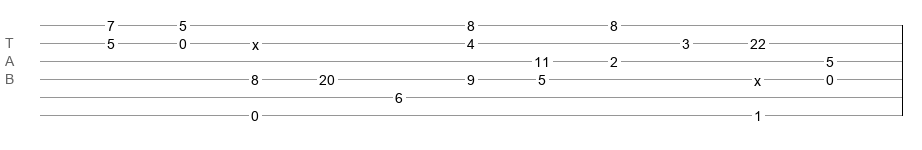0: (179, 36, 187, 46), (251, 108, 259, 118), (826, 72, 834, 82)
1: (754, 108, 762, 118)
11: (534, 54, 550, 64)
2: (610, 54, 618, 64)
20: (319, 72, 335, 82)
22: (750, 36, 766, 46)
3: (682, 36, 690, 46)
4: (467, 36, 475, 46)
5: (107, 36, 115, 46), (179, 18, 187, 28), (538, 72, 546, 82), (826, 54, 834, 64)
6: (395, 90, 403, 100)
7: (107, 18, 115, 28)
8: (251, 72, 259, 82), (467, 18, 475, 28), (610, 18, 618, 28)
9: (467, 72, 475, 82)
x: (252, 37, 259, 45), (754, 73, 761, 81)
